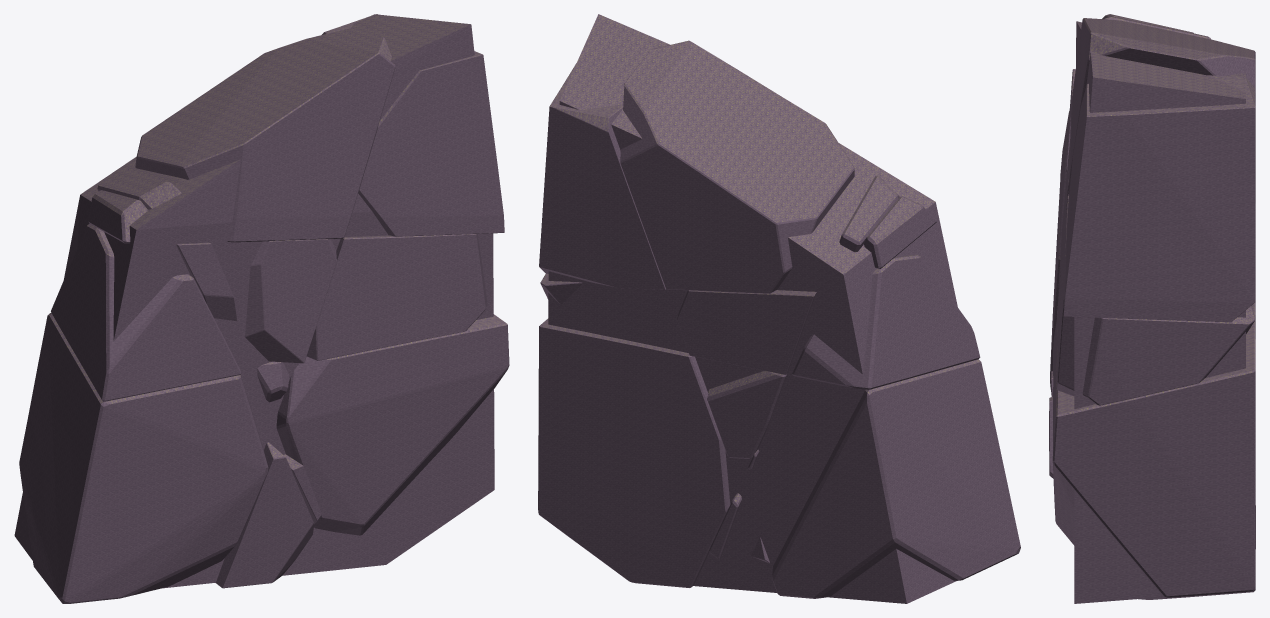
Rendered from A01_Wall_A.fbx.
3 renders of one model, left to right at view 1: azimuth 30°, elevation 25°; view 2: azimuth 150°, elevation 25°; view 3: azimuth 270°, elevation 25°, orthographic. The views are drawn at different scales.
Visible parts, largest first — view 1: A01A_slab0_0, A01A_core0, A01A_slab0_14, A01A_slab0_7, A01A_slab0_15, A01A_slab0_8, A01A_slab0_11, A01A_slab0_10, A01A_slab0_4, A01A_slab0_9, A01A_slab0_12, A01A_slab0_13 (+2 smaller); view 2: A01A_core0, A01A_slab0_14, A01A_slab0_7, A01A_slab0_0, A01A_slab0_15, A01A_slab0_8, A01A_slab0_10, A01A_slab0_3, A01A_slab0_12, A01A_slab0_13, A01A_slab0_5, A01A_slab0_11; view 3: A01A_slab0_15, A01A_slab0_7, A01A_core0, A01A_slab0_11, A01A_slab0_14, A01A_slab0_0, A01A_slab0_8, A01A_slab0_10, A01A_slab0_13, A01A_slab0_6.
Part boxes in pixels (x1,y1,x2,y2): A01A_slab0_0: [19, 313, 268, 603]; A01A_core0: [14, 14, 494, 588]; A01A_slab0_14: [135, 28, 395, 242]; A01A_slab0_7: [276, 314, 509, 535]; A01A_slab0_15: [322, 14, 504, 236]; A01A_slab0_8: [51, 223, 241, 401]; A01A_slab0_11: [306, 234, 487, 360]; A01A_slab0_10: [245, 239, 336, 363]; A01A_slab0_4: [216, 442, 313, 588]; A01A_slab0_9: [176, 242, 236, 320]; A01A_slab0_12: [88, 190, 147, 243]; A01A_slab0_13: [97, 175, 181, 209]; A01A_core0: [548, 14, 957, 603]; A01A_slab0_14: [620, 40, 854, 293]; A01A_slab0_7: [538, 318, 730, 587]; A01A_slab0_0: [772, 359, 1020, 598]; A01A_slab0_15: [539, 63, 666, 289]; A01A_slab0_8: [792, 254, 980, 389]; A01A_slab0_10: [677, 290, 816, 374]; A01A_slab0_3: [707, 371, 786, 458]; A01A_slab0_12: [864, 196, 936, 268]; A01A_slab0_13: [839, 175, 899, 252]; A01A_slab0_5: [709, 493, 741, 559]; A01A_slab0_11: [540, 273, 582, 304]; A01A_slab0_15: [1063, 75, 1255, 322]; A01A_slab0_7: [1052, 303, 1255, 599]; A01A_core0: [1074, 21, 1245, 603]; A01A_slab0_11: [1056, 196, 1255, 405]; A01A_slab0_14: [1068, 18, 1255, 194]; A01A_slab0_0: [1050, 182, 1060, 391]; A01A_slab0_8: [1059, 111, 1069, 255]; A01A_slab0_10: [1058, 143, 1069, 294]; A01A_slab0_13: [1104, 17, 1211, 39]; A01A_slab0_6: [1049, 397, 1053, 478].
Size of the model in its own units: 12.37 by 13.61 by 4.45.
